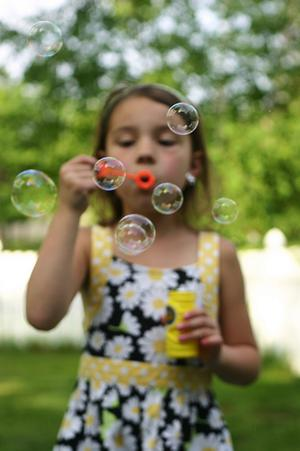person: (24, 80, 262, 451)
